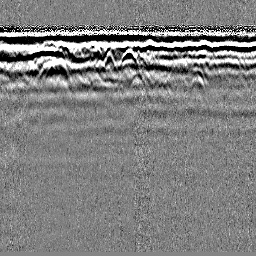cavity: (118, 48, 138, 69)
